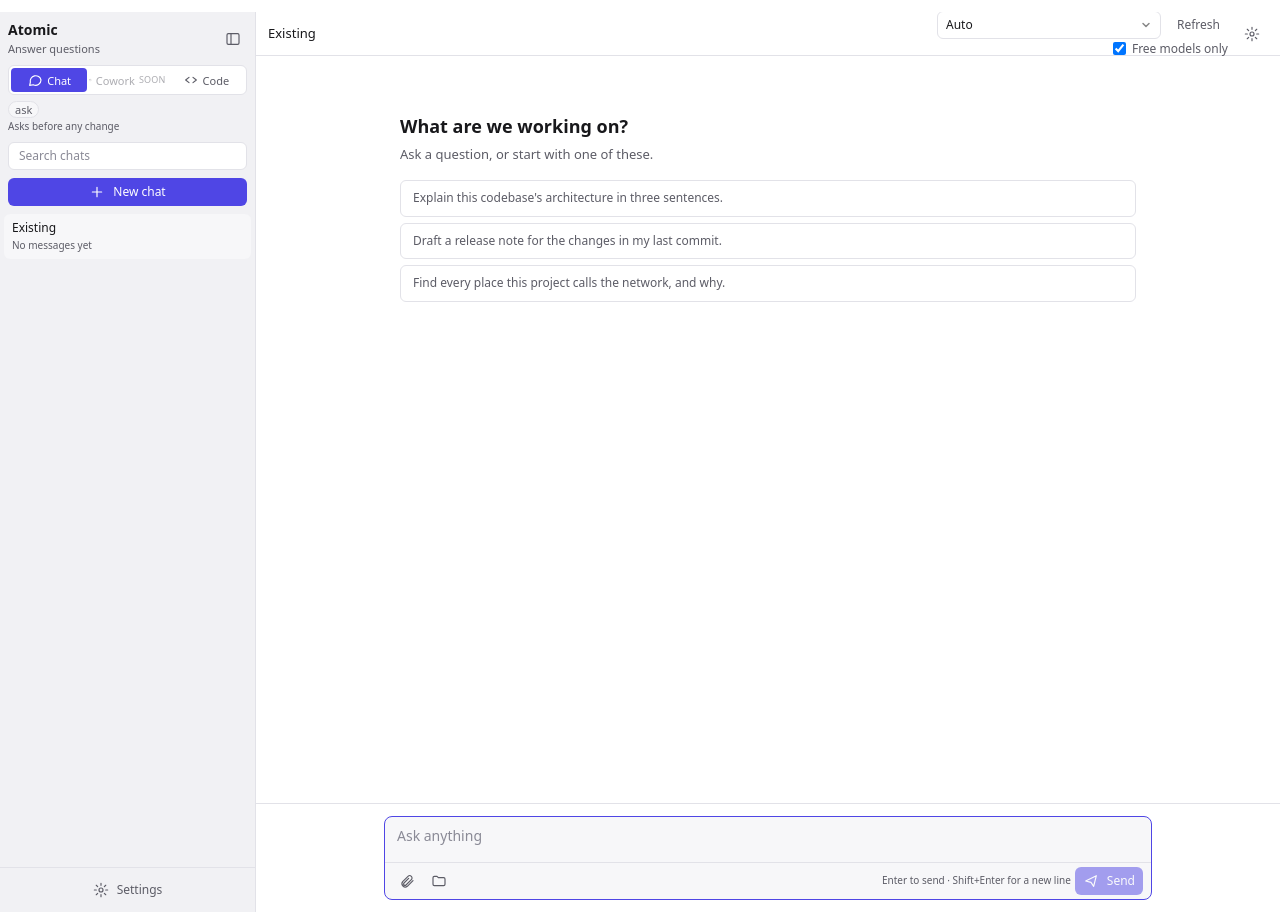
New chat, through the real App › does not lose a typed draft when it fails
expect the button "New chat" is enabled: met, box x1=8 y1=178 x2=247 y2=206
Type "something worth keeping" into the text box labelled "Ask anything" at point(768, 837), box x1=385 y1=817 x2=1151 y2=856
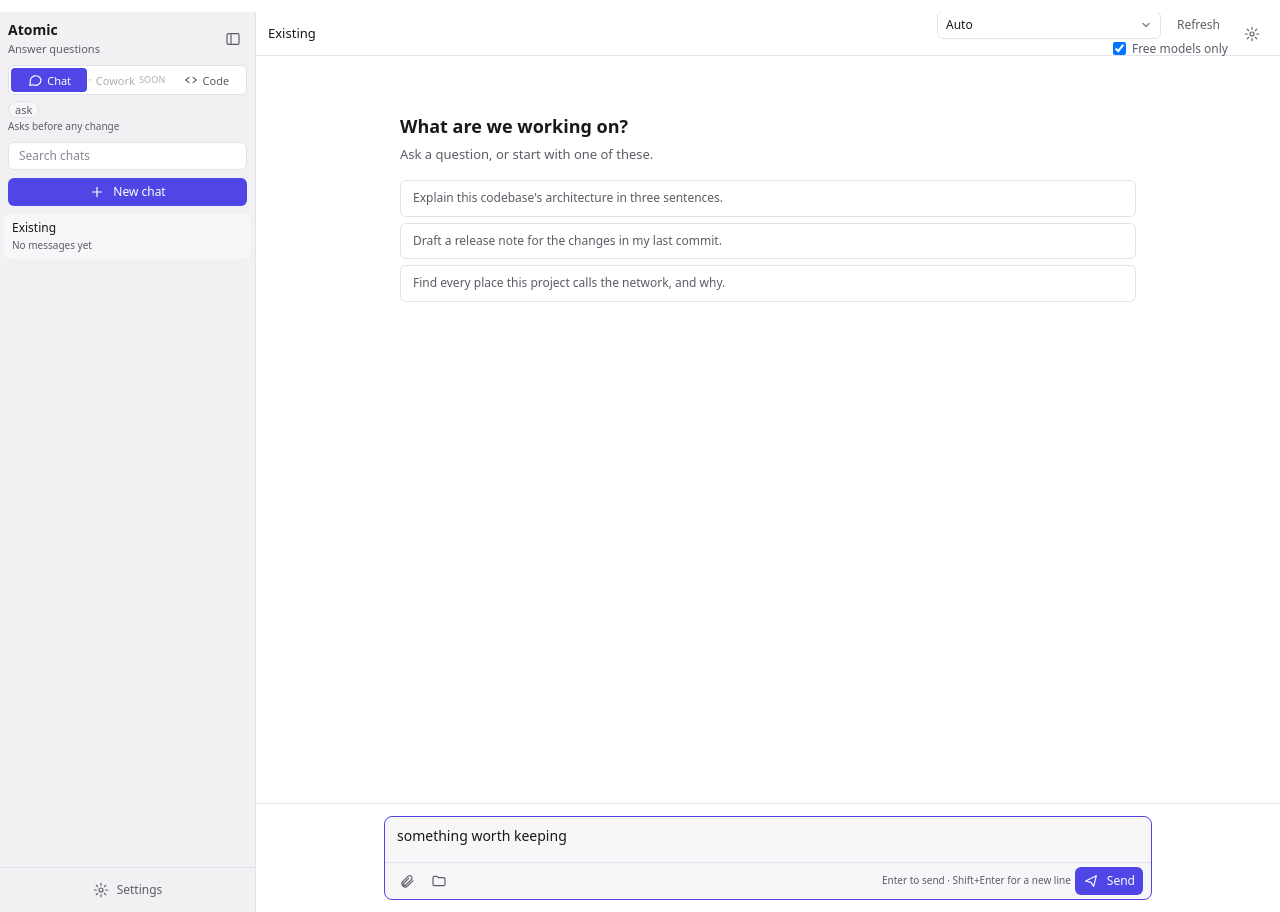
Click the button "New chat" at point(128, 192), box x1=8 y1=178 x2=247 y2=206
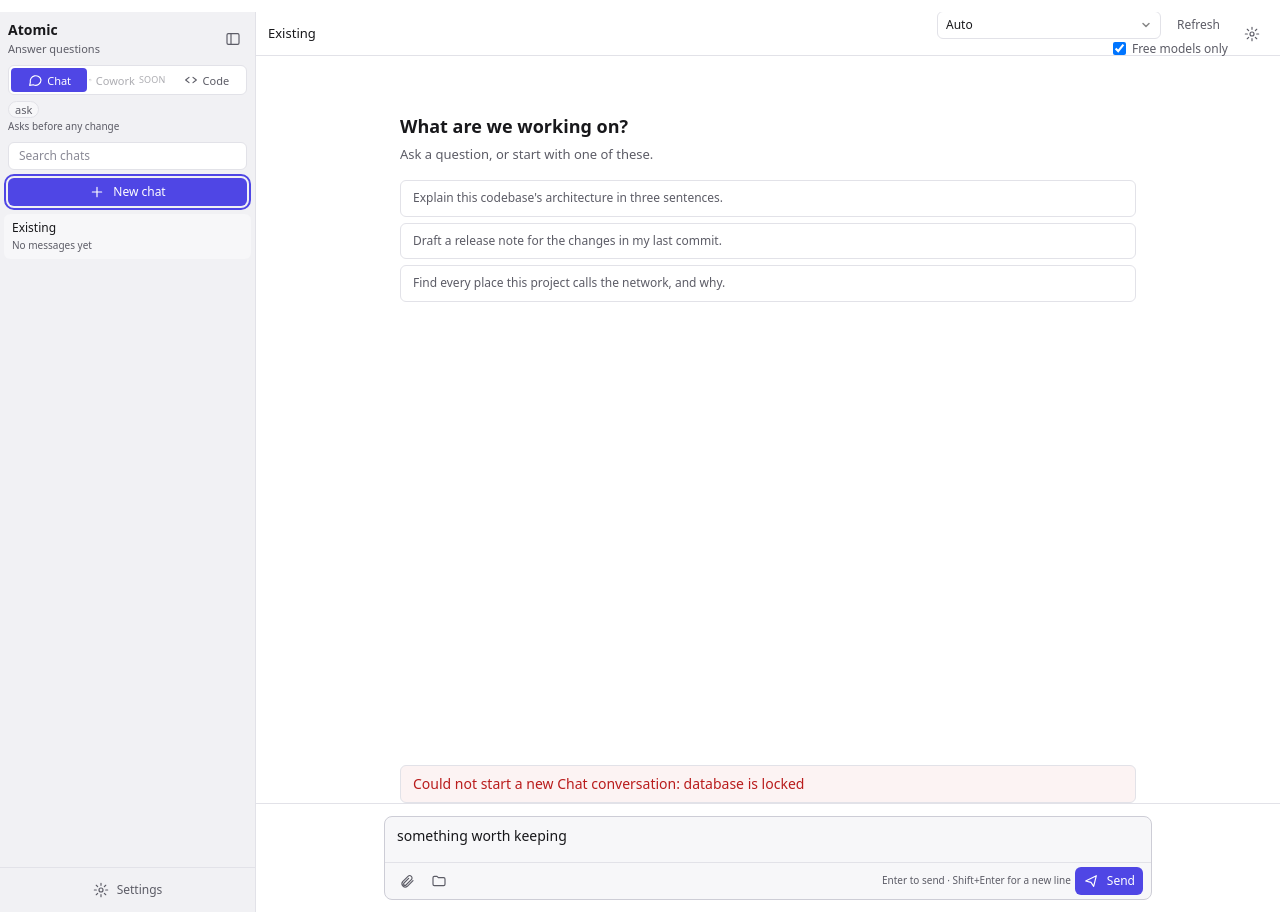
expect the message shows "database is locked": met, box x1=413 y1=774 x2=804 y2=793
